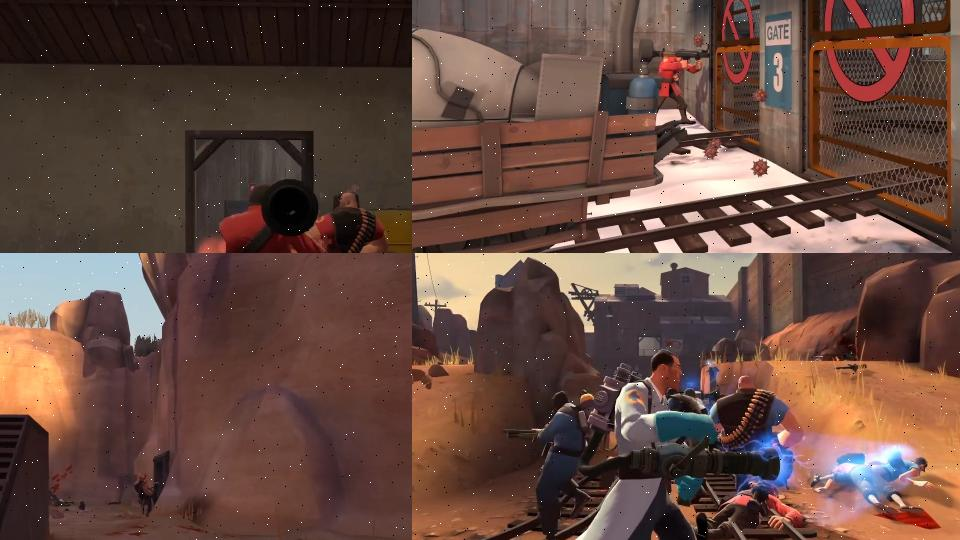Enemy: (521, 347, 780, 540), (503, 389, 590, 540), (709, 376, 804, 488), (187, 176, 321, 253), (811, 452, 924, 521), (278, 187, 392, 253), (692, 475, 803, 540), (652, 43, 711, 125), (865, 451, 935, 501), (135, 477, 160, 516)
